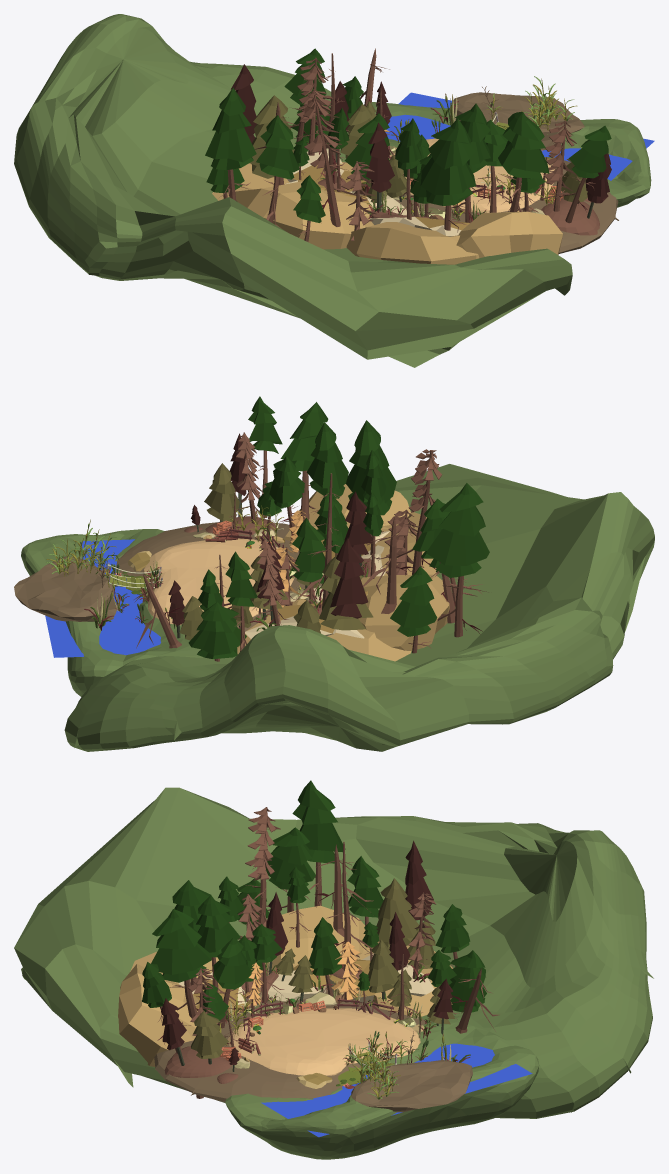
File: Arena.fbx
3 renders of one model, top to bottom at view 1: azimuth 30°, elevation 25°; view 2: azimuth 150°, elevation 25°; view 3: azimuth 270°, elevation 25°, orthographic. The views are drawn at different scales.
Visible parts, largest first — view 1: Cube.056, Plane; view 2: Cube.056, Plane; view 3: Cube.056, Plane.
Part boxes in pixels (left/top/right/bottom): Cube.056: left=14, top=14, right=651, bottom=367; Plane: left=385, top=92, right=654, bottom=180; Cube.056: left=14, top=396, right=654, bottom=751; Plane: left=45, top=539, right=160, bottom=657; Cube.056: left=14, top=780, right=653, bottom=1159; Plane: left=261, top=1043, right=532, bottom=1137.
Size of the model in its own units: 5093 by 1972 by 5114.
